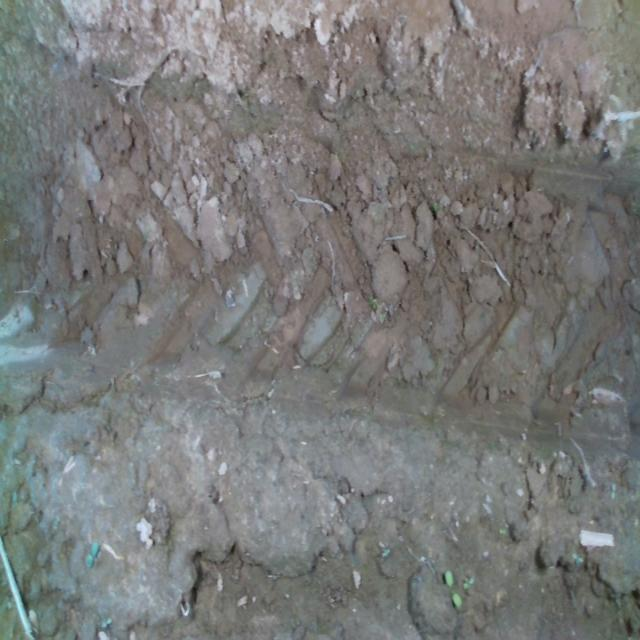weed: (443, 568, 462, 608), (84, 540, 98, 568), (462, 573, 474, 591)
